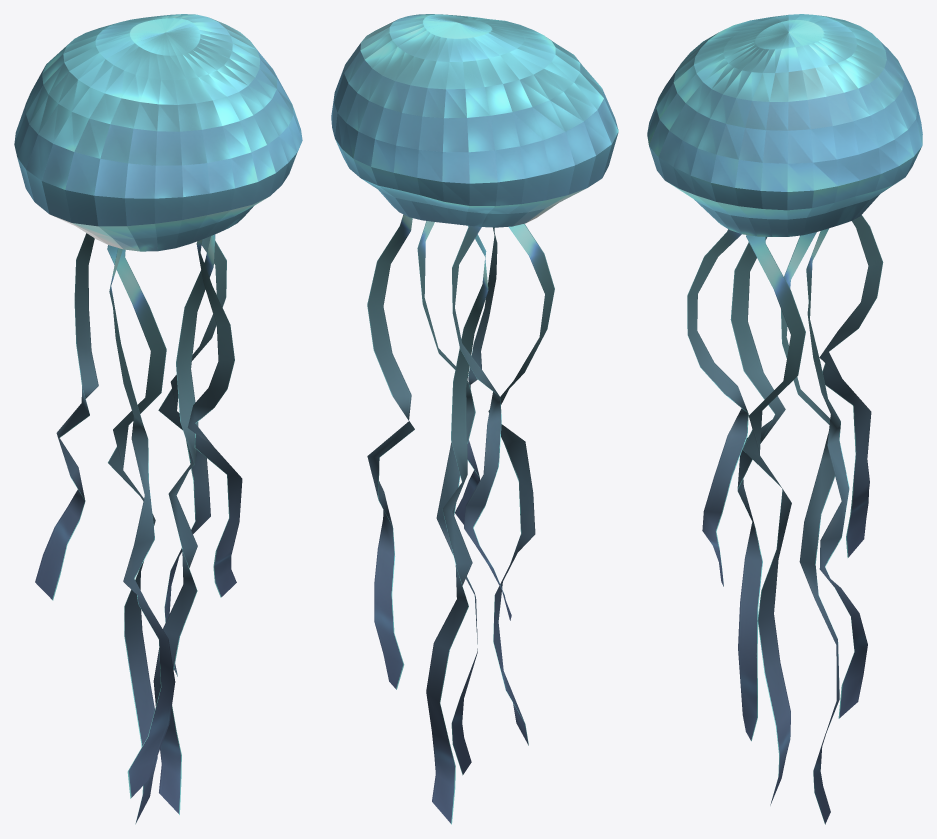
File: jellyfish.glb
3 renders of one model, left to right at view 1: azimuth 30°, elevation 25°; view 2: azimuth 150°, elevation 25°; view 3: azimuth 270°, elevation 25°, orthographic. The views are drawn at different scales.
Visible parts, largest first — view 1: Sphere.001, Plane.009, Plane.007, Plane.008, Plane.010, Plane.011, Plane.006; view 2: Sphere.001, Plane.007, Plane.006, Plane.008, Plane.010, Plane.009, Plane.011; view 3: Sphere.001, Plane.009, Plane.008, Plane.010, Plane.011, Plane.006, Plane.007.
Boxes of the visible parts, x1,y1,x2,y2 form: Sphere.001: (14, 14, 302, 251); Plane.009: (153, 234, 215, 814); Plane.007: (107, 245, 166, 824); Plane.008: (109, 248, 175, 798); Plane.010: (35, 233, 98, 600); Plane.011: (187, 239, 242, 597); Plane.006: (158, 236, 226, 676); Sphere.001: (331, 14, 618, 227); Plane.007: (426, 225, 488, 824); Plane.006: (367, 214, 414, 689); Plane.008: (488, 223, 554, 745); Plane.010: (452, 226, 511, 620); Plane.009: (417, 221, 477, 775); Plane.011: (455, 227, 497, 524); Sphere.001: (647, 14, 922, 236); Plane.009: (742, 235, 805, 805); Plane.008: (730, 237, 785, 741); Plane.010: (819, 215, 883, 557); Plane.011: (687, 229, 748, 586); Plane.006: (806, 228, 867, 718); Plane.007: (781, 232, 839, 824).
Size of the model in its own units: 1.71 by 5.08 by 1.59.
Materials: 7 (7 with a texture image).
